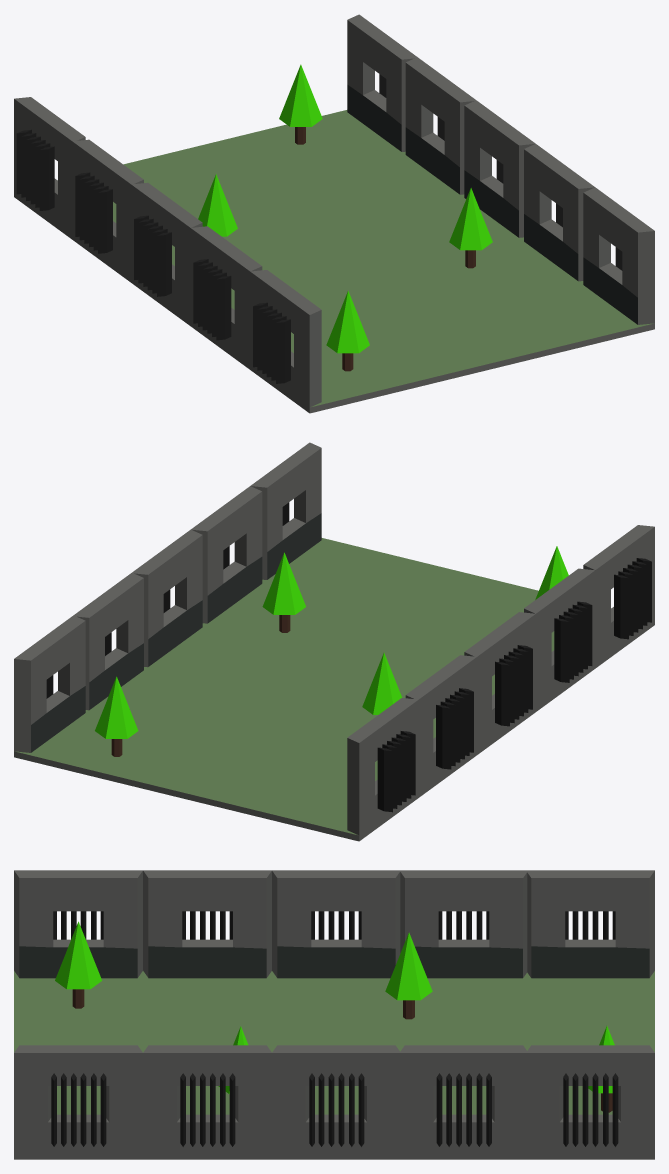
The model's file is outdoor.fbx.
The picture shows the model from 3 angles, top to bottom: view 1: azimuth 30°, elevation 25°; view 2: azimuth 150°, elevation 25°; view 3: azimuth 270°, elevation 25°; orthographic projection. The views are drawn at different scales.
Parts seen in each view (by area): view 1: OutDoor Wall; view 2: OutDoor Wall; view 3: OutDoor Wall.
Part boxes in pixels (left/top/right/bottom): OutDoor Wall: left=14, top=14, right=654, bottom=413; OutDoor Wall: left=14, top=442, right=654, bottom=841; OutDoor Wall: left=14, top=870, right=654, bottom=1159.
Size of the model in its own units: 13209 by 3290 by 17918.
